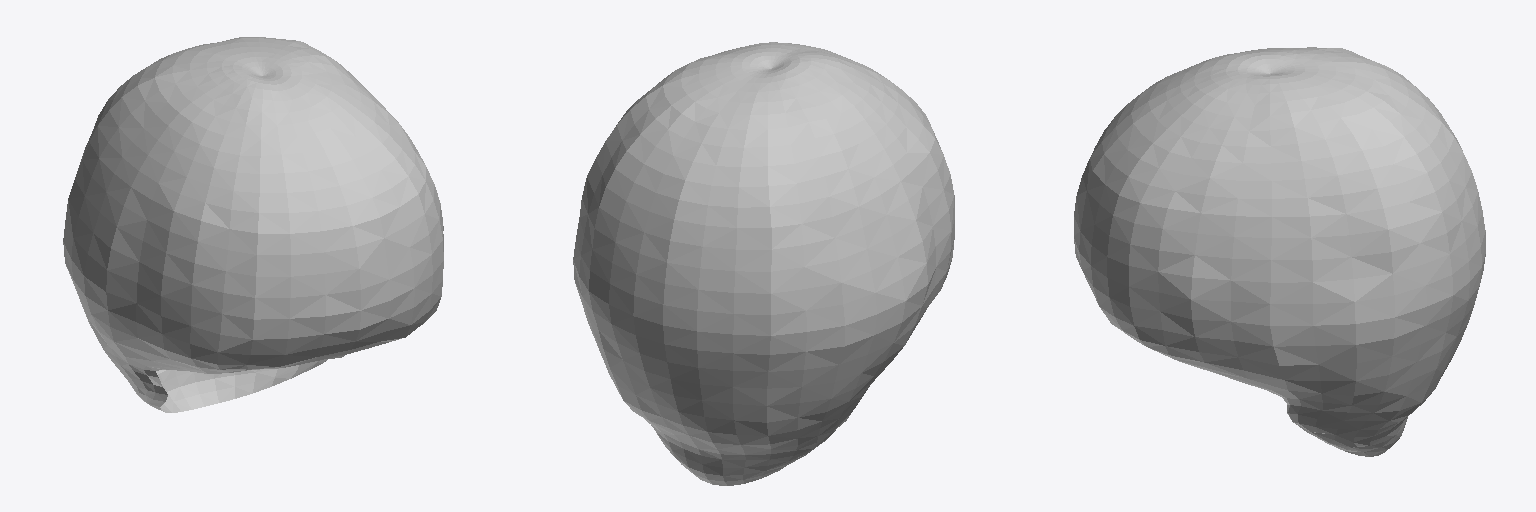
File: cloth3_1.obj
The picture shows the model from 3 angles: view 1: azimuth 30°, elevation 25°; view 2: azimuth 150°, elevation 25°; view 3: azimuth 270°, elevation 25°; orthographic projection.
Parts seen in each view (by area): view 1: polySurface868 _04:Mesh1; view 2: polySurface868 _04:Mesh1; view 3: polySurface868 _04:Mesh1.
Boxes of the visible parts, x1=… form: polySurface868 _04:Mesh1: x1=63, y1=37, x2=443, y2=412; polySurface868 _04:Mesh1: x1=573, y1=42, x2=954, y2=485; polySurface868 _04:Mesh1: x1=1074, y1=47, x2=1485, y2=456.
Size of the model in its own units: 1.44 by 1.69 by 1.66.